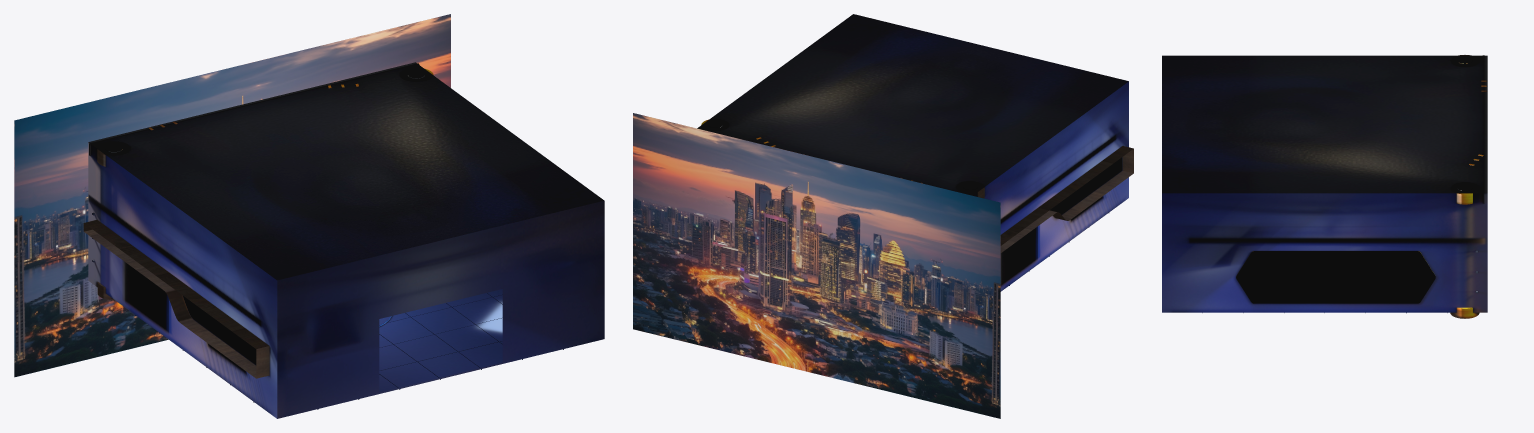
The picture shows the model from 3 angles, left to right: view 1: azimuth 30°, elevation 25°; view 2: azimuth 150°, elevation 25°; view 3: azimuth 270°, elevation 25°; orthographic projection. The views are drawn at different scales.
Visible parts, largest first — view 1: BlackMatte, Blue, Background, Ground, Wood; view 2: Background, BlackMatte, Blue, Wood; view 3: BlackMatte, Blue, Wood.
Part boxes in pixels (bbox=[...]): BlackMatte: bbox=[88, 62, 603, 280]; Blue: bbox=[88, 142, 604, 418]; Background: bbox=[14, 14, 450, 377]; Ground: bbox=[111, 289, 563, 409]; Wood: bbox=[83, 69, 433, 378]; Background: bbox=[633, 113, 1000, 418]; BlackMatte: bbox=[697, 14, 1128, 195]; Blue: bbox=[973, 81, 1128, 291]; Wood: bbox=[701, 119, 1133, 252]; BlackMatte: bbox=[1162, 55, 1487, 203]; Blue: bbox=[1162, 193, 1487, 312]; Wood: bbox=[1236, 55, 1486, 318].
Size of the model in its own units: 16 by 9 by 13.19.
Materials: 12 (10 with a texture image).
